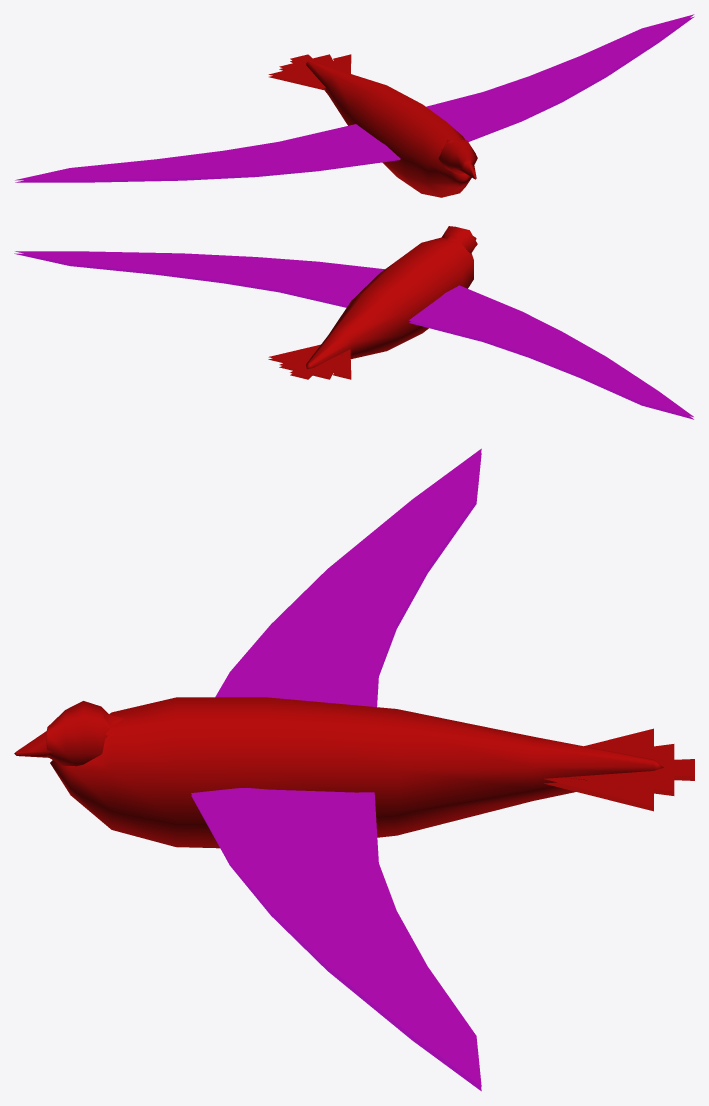
The model's file is frigatebird.glb.
3 views of the same model, one above another, from view 1: azimuth 30°, elevation 25°; view 2: azimuth 150°, elevation 25°; view 3: azimuth 270°, elevation 25° (orthographic). The views are drawn at different scales.
Parts seen in each view (by area): view 1: bird; view 2: bird; view 3: bird.
Boxes of the visible parts, box(x1,y1,x2,y2) form: bird: box(15, 14, 694, 197); bird: box(14, 226, 693, 419); bird: box(14, 448, 694, 1091).
Bounding box in the file's own units: 2.3 × 0.2148 × 1.04.
